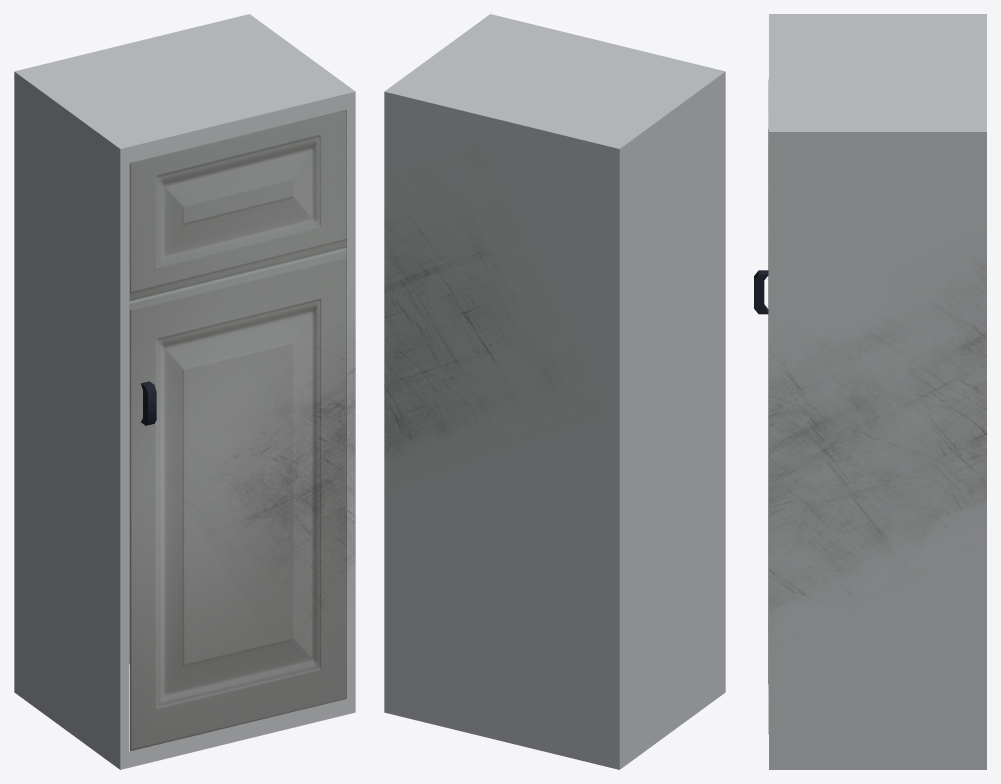
Rendered from locker2.fbx.
The picture shows the model from 3 angles, left to right: view 1: azimuth 30°, elevation 25°; view 2: azimuth 150°, elevation 25°; view 3: azimuth 270°, elevation 25°; orthographic projection. The views are drawn at different scales.
Parts seen in each view (by area): view 1: locker2:polySurface7; view 2: locker2:polySurface7; view 3: locker2:polySurface7.
Part boxes in pixels (x1,y1,x2,y2): locker2:polySurface7: [14, 14, 355, 769]; locker2:polySurface7: [384, 14, 725, 769]; locker2:polySurface7: [754, 14, 986, 769].
Size of the model in its own units: 232 by 584 by 193.
Materials: 1 (1 with a texture image).
